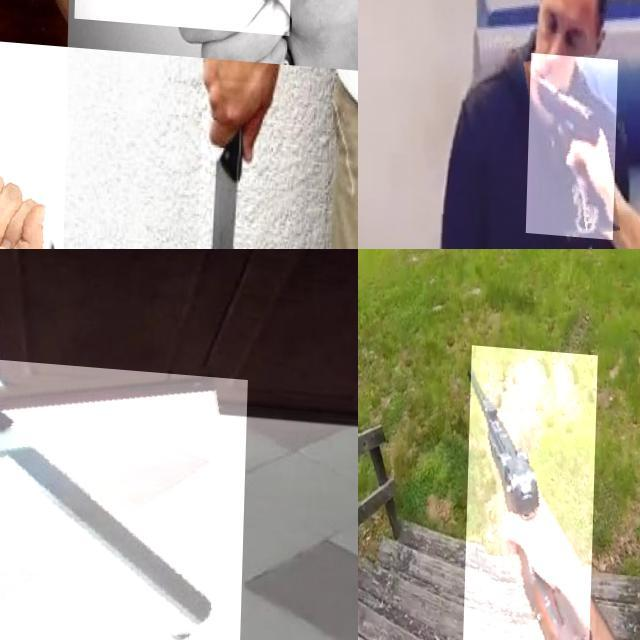-: (0, 351, 249, 640), (76, 0, 298, 152), (0, 58, 156, 249), (0, 0, 162, 105), (198, 71, 263, 249)
gun-knife-thesis - v11 Yolov5 augmented: (465, 339, 599, 640), (528, 47, 620, 233)
